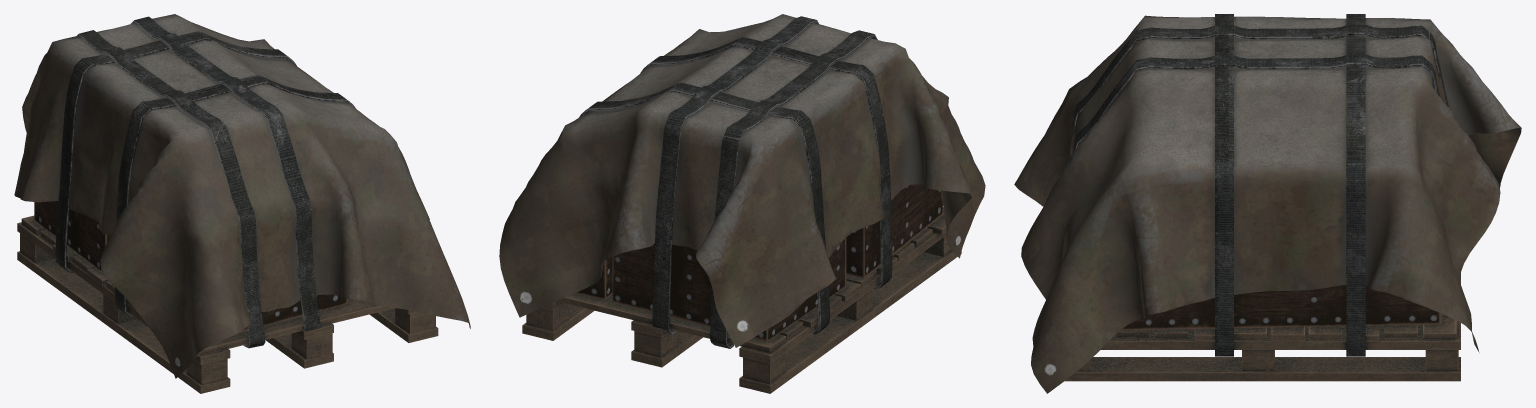
The model's file is crate_dusty_multicrate.obj.
3 views of the same model, side by side, from view 1: azimuth 30°, elevation 25°; view 2: azimuth 150°, elevation 25°; view 3: azimuth 270°, elevation 25° (orthographic). The views are drawn at different scales.
Visible parts, largest first — view 1: defaultMaterial.001, defaultMaterial.002, defaultMaterial; view 2: defaultMaterial.001, defaultMaterial.002, defaultMaterial; view 3: defaultMaterial.001, defaultMaterial.002, defaultMaterial.
Boxes of the visible parts, x1,y1,x2,y2 form: defaultMaterial.001: (14, 14, 470, 378); defaultMaterial.002: (55, 16, 355, 348); defaultMaterial: (17, 215, 438, 393); defaultMaterial.001: (499, 14, 985, 347); defaultMaterial.002: (579, 16, 892, 348); defaultMaterial: (522, 207, 961, 393); defaultMaterial.001: (1014, 15, 1521, 393); defaultMaterial.002: (1072, 14, 1448, 356); defaultMaterial: (1065, 273, 1460, 381).
Size of the model in its own units: 1.82 by 1.22 by 2.22.
